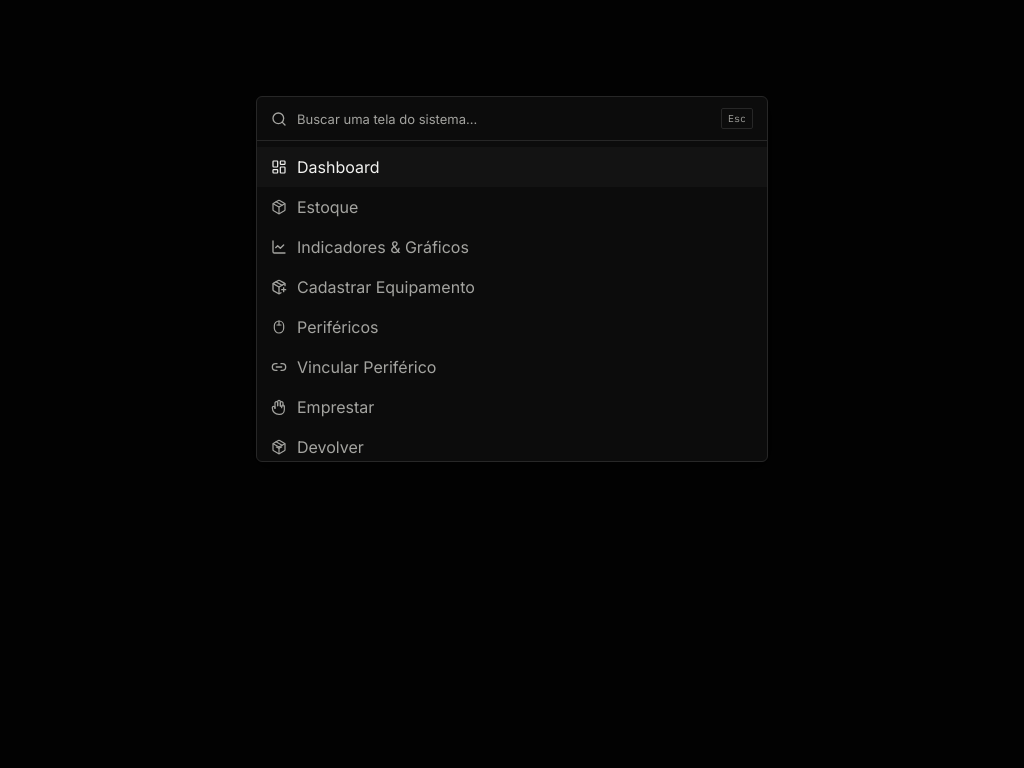
Test: CommandPalette › o campo de busca filtra a lista de destinos pelo rótulo
Type "Periféricos" into the field labelled "Buscar uma tela do sistema" at {"x": 504, "y": 118}, box [297,108,711,128]
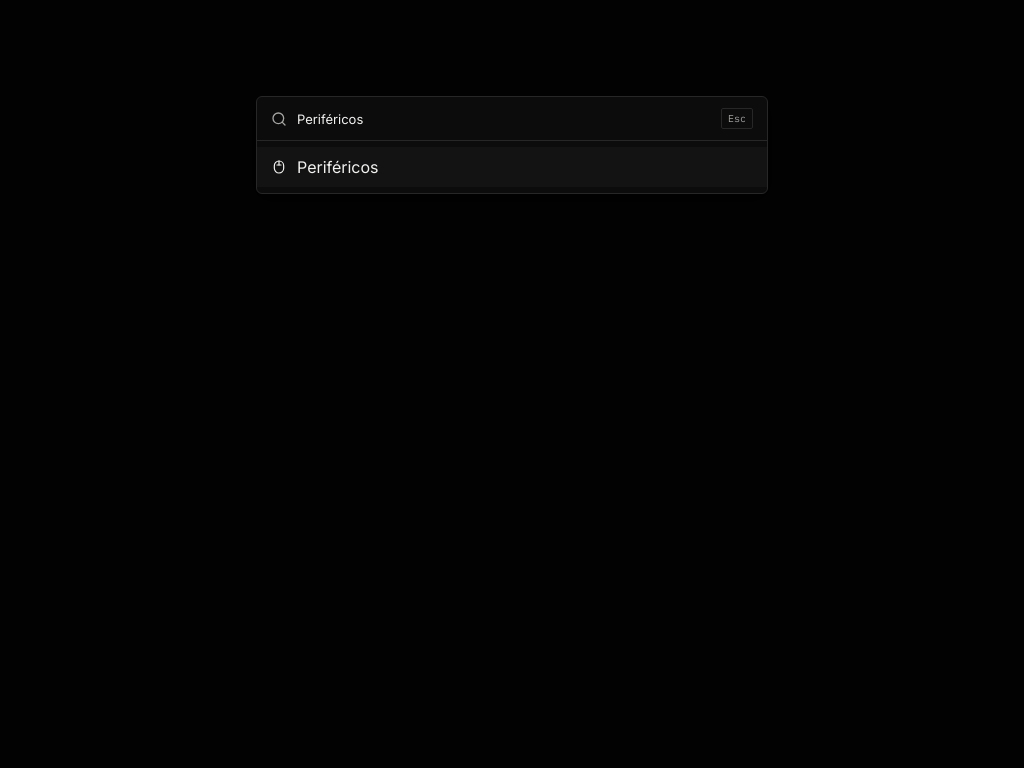
Expected: the option "Periféricos" is shown, [257,147,767,187]
Result: the option "Dashboard" is gone
Result: the option "Estoque" is gone
